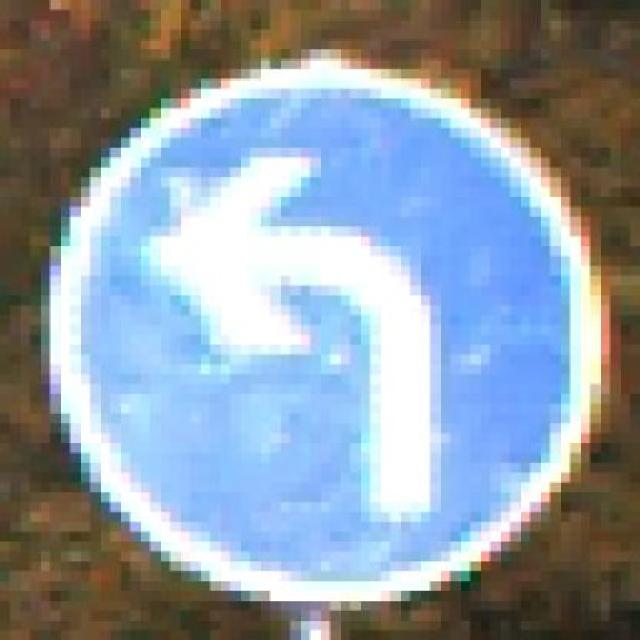Turn left ahead: (39, 39, 610, 630)
